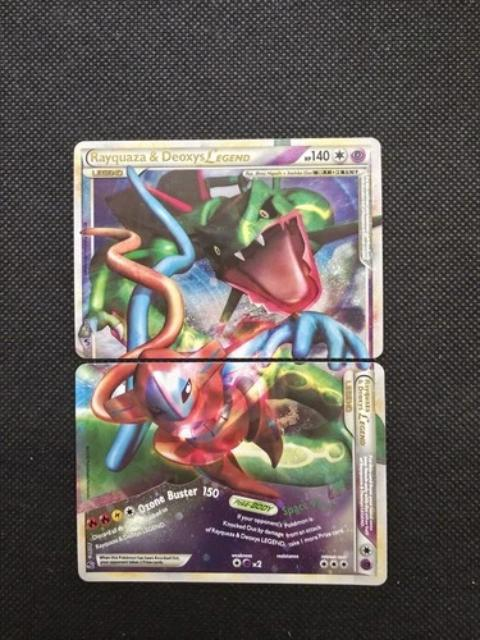Card: (70, 359, 392, 589), (69, 133, 388, 363)
Name: (87, 148, 256, 169), (353, 374, 375, 452)
